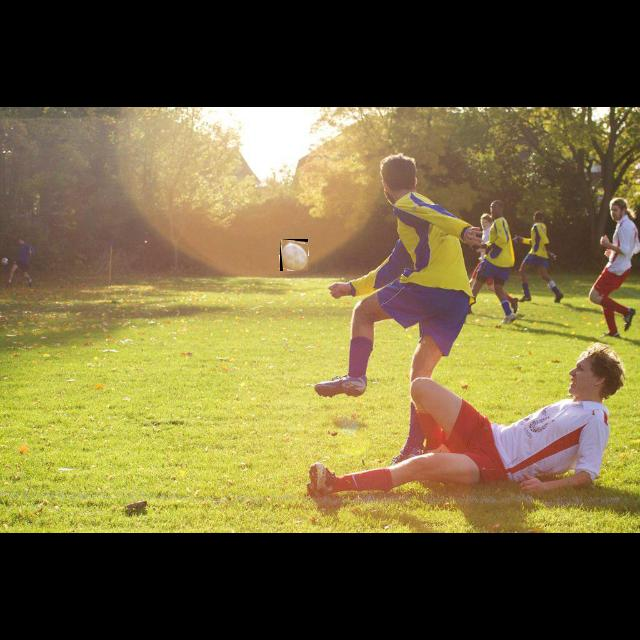Football: (280, 239, 308, 271)
